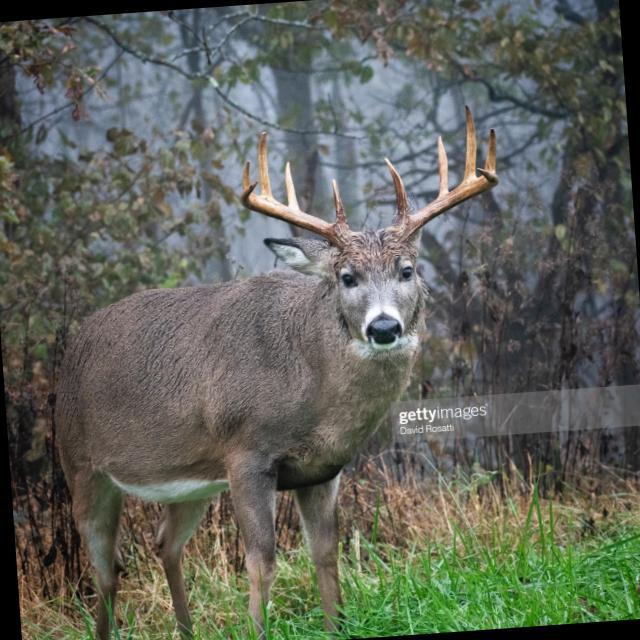L-F: (394, 167, 498, 241)
L-G1: (384, 157, 409, 223)
L-G2: (437, 135, 448, 197)
L-G3: (462, 104, 476, 183)
R-F: (239, 180, 351, 248)
R-G1: (331, 178, 349, 230)
R-G2: (284, 161, 299, 209)
R-G3: (258, 131, 272, 197)
